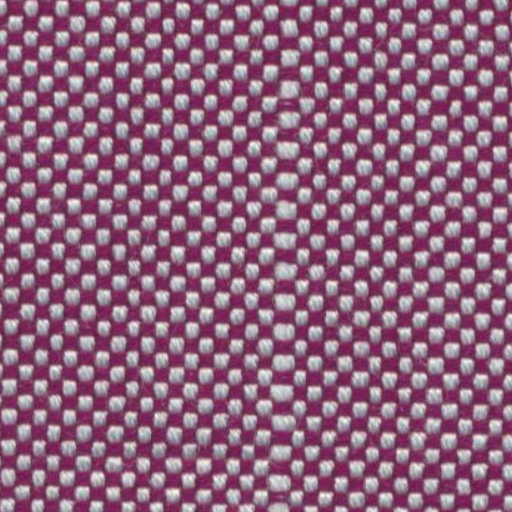TuoSha: (252, 10, 332, 496)
